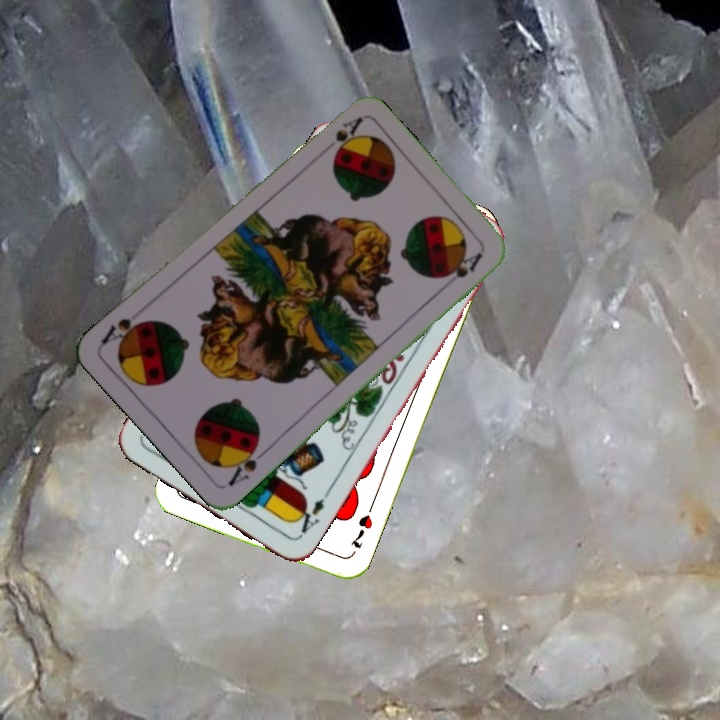EA: (290, 487, 333, 540)
H7: (346, 510, 375, 551)
SA: (223, 437, 272, 489), (316, 114, 365, 158)
